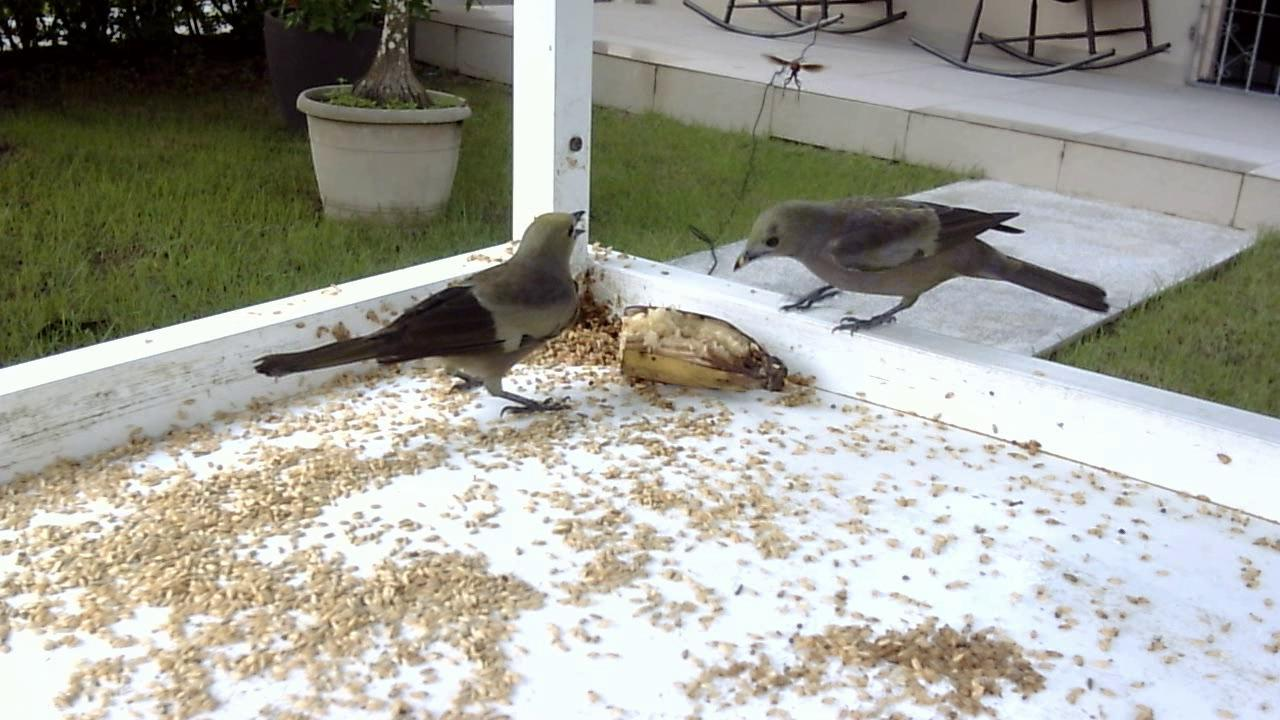sanhaco_do_coqueiro: (725, 160, 1105, 360), (249, 204, 591, 425)
